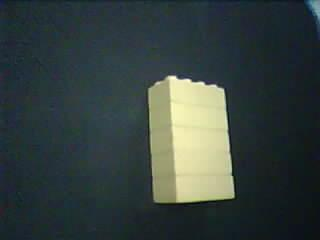lego: (146, 75, 235, 204)
